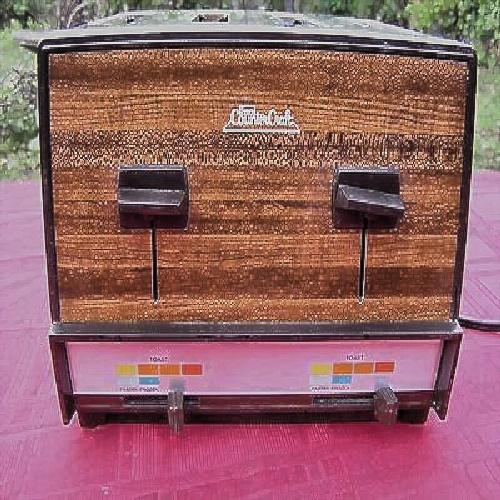toaster: (31, 29, 472, 425)
